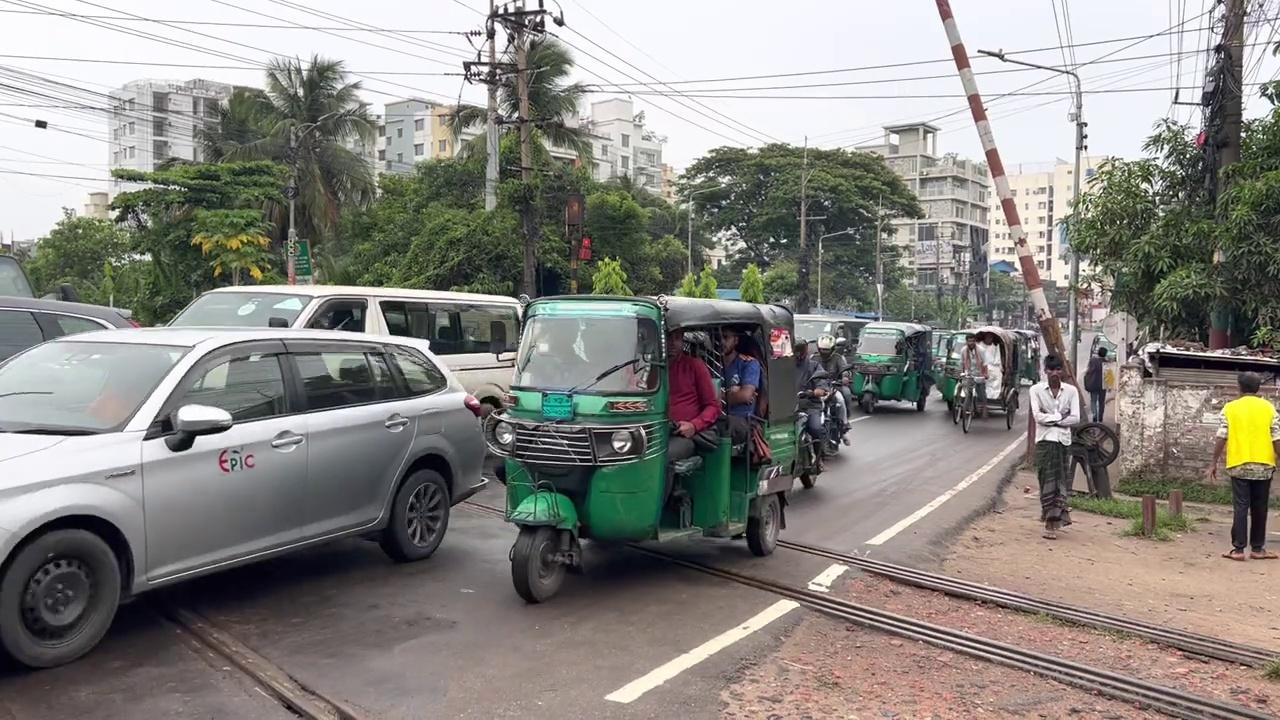Bollard: (0, 325, 488, 670)
Fence: (1207, 371, 1279, 560), (645, 325, 722, 464), (1028, 353, 1080, 539), (717, 326, 762, 456), (1083, 346, 1112, 423)
Garbage: (934, 0, 1076, 383), (1201, 0, 1247, 349)
Motorcycle: (617, 531, 1277, 718)
Railroad-crossing: (194, 51, 379, 284), (438, 33, 600, 297)
Rickshaw: (481, 291, 809, 602)
